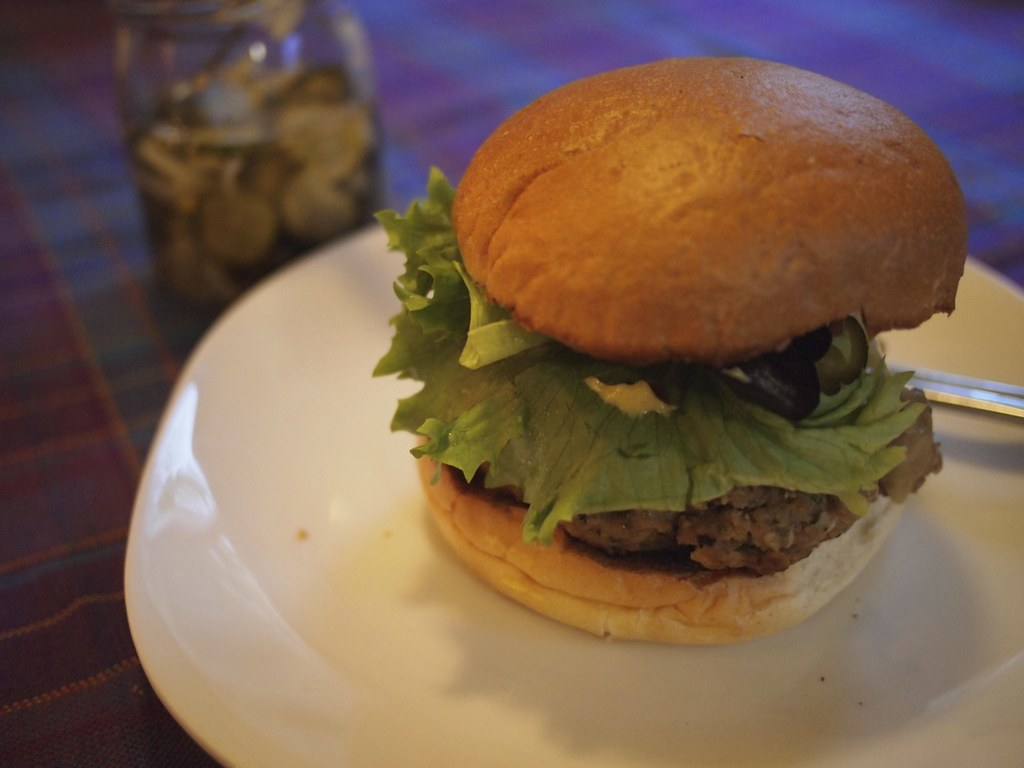Hamburger: (367, 55, 967, 647)
